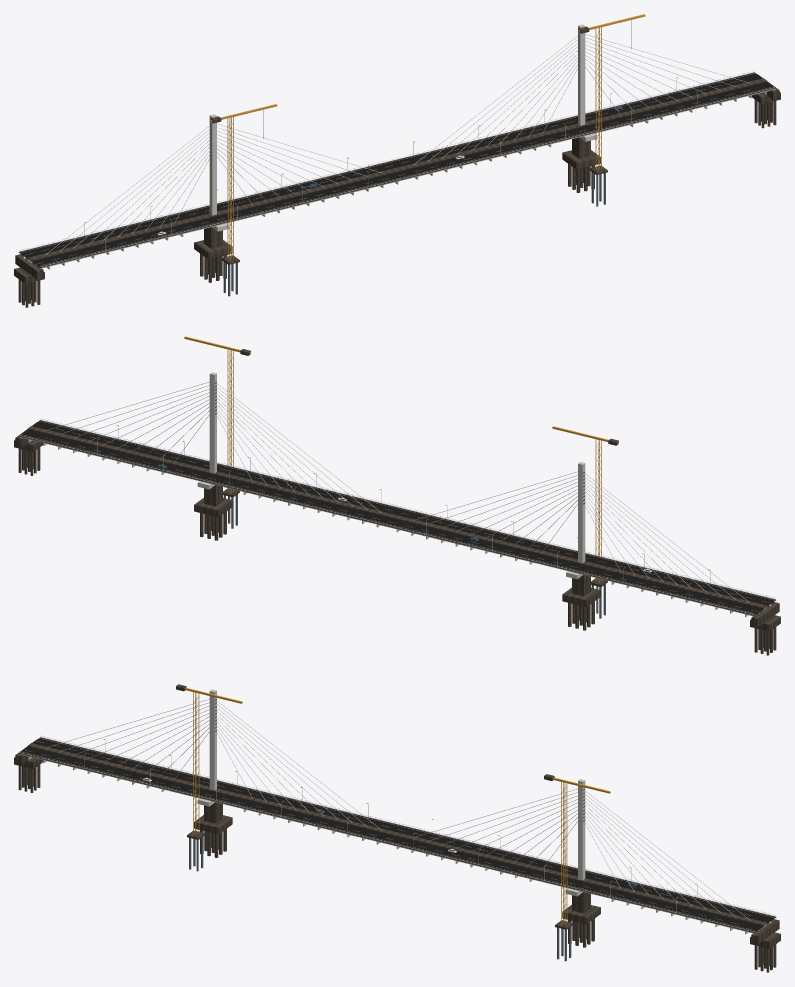
File: cable_stayed.glb
3 views of the same model, one above another, from view 1: azimuth 30°, elevation 25°; view 2: azimuth 150°, elevation 25°; view 3: azimuth 330°, elevation 25° (orthographic).
Visible parts, largest first — view 1: surface_asphalt_0_-1, surface_asphalt_0_1, CentralMedian, edge_walk_-1_0, edge_walk_1_0; view 2: surface_asphalt_0_1, surface_asphalt_0_-1, CentralMedian, edge_walk_1_0, edge_walk_-1_0; view 3: surface_asphalt_0_-1, surface_asphalt_0_1, CentralMedian, edge_walk_-1_0, edge_walk_1_0.
Part boxes in pixels (x1,y1,x2,y2): surface_asphalt_0_-1: (31, 82, 775, 267); surface_asphalt_0_1: (19, 73, 762, 258); CentralMedian: (27, 78, 767, 261); edge_walk_-1_0: (39, 88, 776, 267); edge_walk_1_0: (18, 72, 754, 252); surface_asphalt_0_1: (19, 429, 763, 614); surface_asphalt_0_-1: (32, 420, 775, 606); CentralMedian: (27, 426, 767, 608); edge_walk_1_0: (19, 435, 755, 615); edge_walk_-1_0: (40, 420, 775, 599); surface_asphalt_0_-1: (20, 746, 763, 932); surface_asphalt_0_1: (32, 738, 775, 923); CentralMedian: (27, 743, 767, 925); edge_walk_-1_0: (18, 752, 754, 932); edge_walk_1_0: (40, 737, 775, 917).
Size of the model in its own units: 460 by 104 by 33.27.
11 materials, 2 textured.
